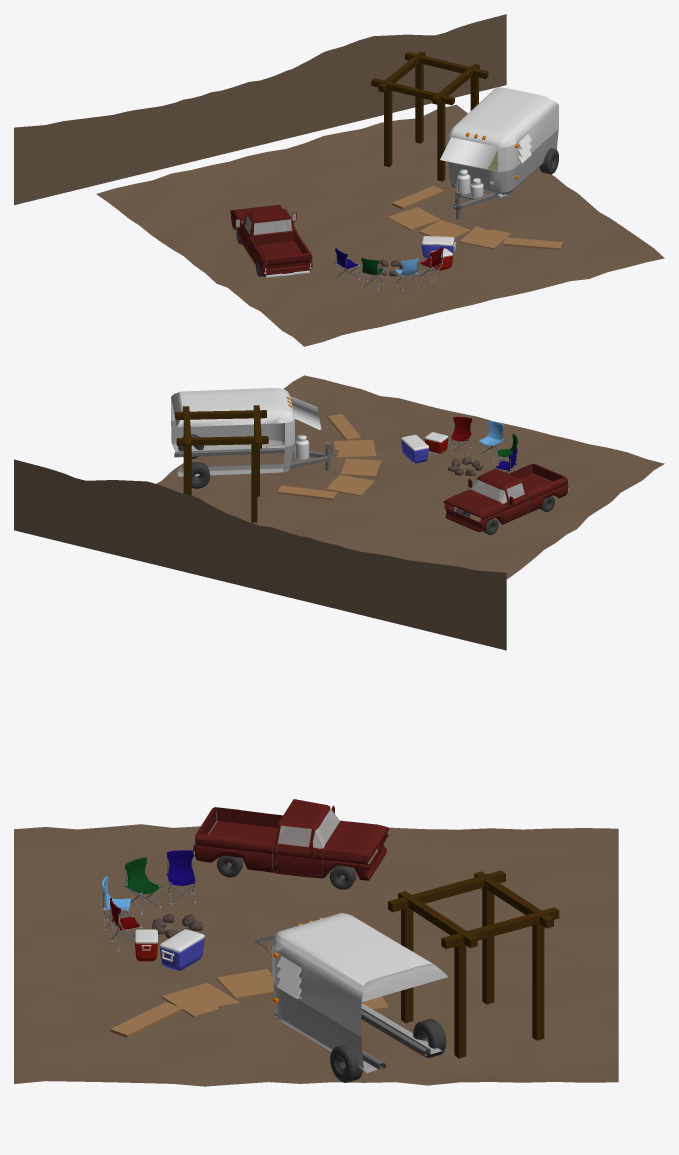
Rendered from fullScene.fbx.
3 renders of one model, top to bottom at view 1: azimuth 30°, elevation 25°; view 2: azimuth 150°, elevation 25°; view 3: azimuth 270°, elevation 25°, orthographic. The views are drawn at different scales.
Visible parts, largest first — view 1: ground, background, trailer1, woodStructure, truckFull, woodWalkway, awningAndExhaust, tanks, largeCooler; view 2: ground, background, trailer1, truckFull, woodStructure, woodWalkway, hitch, awningAndExhaust, largeCooler, trailerTires, chair1, chair2 (+2 smaller); view 3: ground, trailer1, truckFull, woodStructure, woodWalkway, trailerTires, largeCooler, chair4, chair3, tire3, hitch, smallCooler1.
Part boxes in pixels (x1,y1,x2,y2): ground: (96, 104, 664, 346); background: (14, 14, 506, 205); trailer1: (447, 87, 558, 194); woodStructure: (371, 51, 488, 181); truckFull: (230, 205, 312, 278); woodWalkway: (388, 185, 563, 249); awningAndExhaust: (440, 137, 508, 200); tanks: (457, 169, 483, 197); largeCooler: (421, 236, 455, 258); ground: (156, 375, 664, 579); background: (14, 459, 506, 650); trailer1: (171, 388, 294, 476); truckFull: (443, 463, 568, 532); woodStructure: (175, 405, 268, 522); woodWalkway: (277, 414, 381, 499); hitch: (174, 442, 337, 470); awningAndExhaust: (266, 396, 321, 448); largeCooler: (401, 434, 428, 463); trailerTires: (178, 434, 210, 488); chair1: (450, 416, 471, 454); chair2: (479, 420, 503, 459); ground: (14, 824, 618, 1086); trailer1: (272, 913, 447, 1073); truckFull: (193, 799, 389, 880); woodStructure: (388, 870, 559, 1058); woodWalkway: (110, 969, 388, 1037); trailerTires: (330, 1018, 446, 1082); largeCooler: (160, 929, 204, 970); chair4: (166, 850, 196, 904); chair3: (124, 857, 161, 914); tire3: (217, 855, 355, 889); hitch: (271, 974, 427, 1069); smallCooler1: (135, 929, 157, 961).
Bounding box in the file's own units: 36.98 × 6.66 × 29.15.
